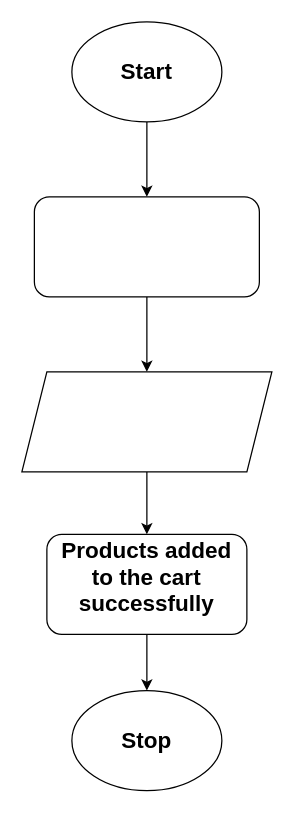
This 294x813 diagram has some shape labels left out. The shapes that lost their labels are listed below. From the top down, each one's centre as x and y in pixels, then its label:
At point 146,246: "Add products to the cart".
At point 146,421: "Increment and decrement the products".
